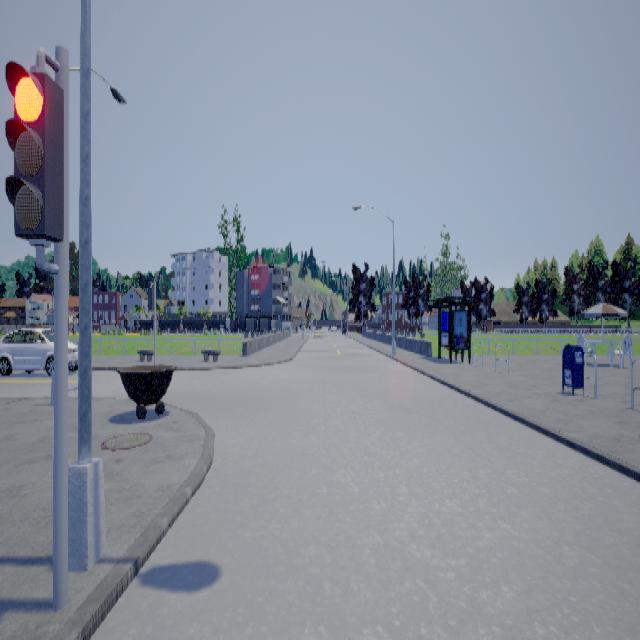red_light: (6, 45, 65, 273)
vehicle: (1, 322, 80, 374)
